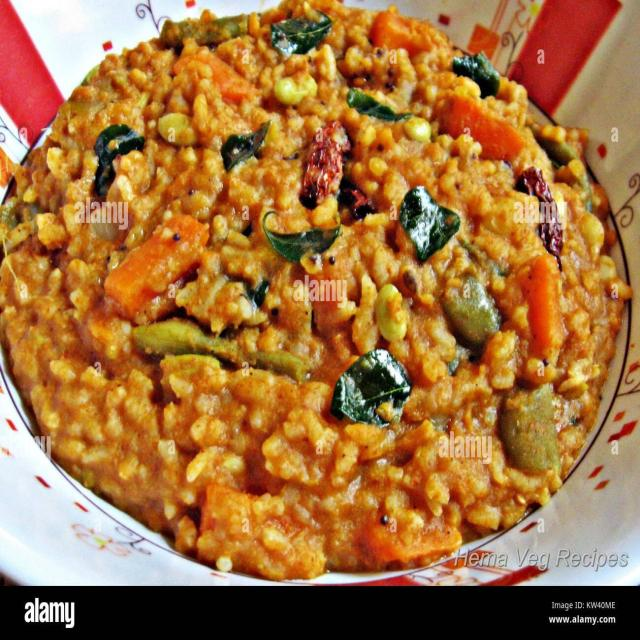bisibele bath: (2, 0, 639, 581)
